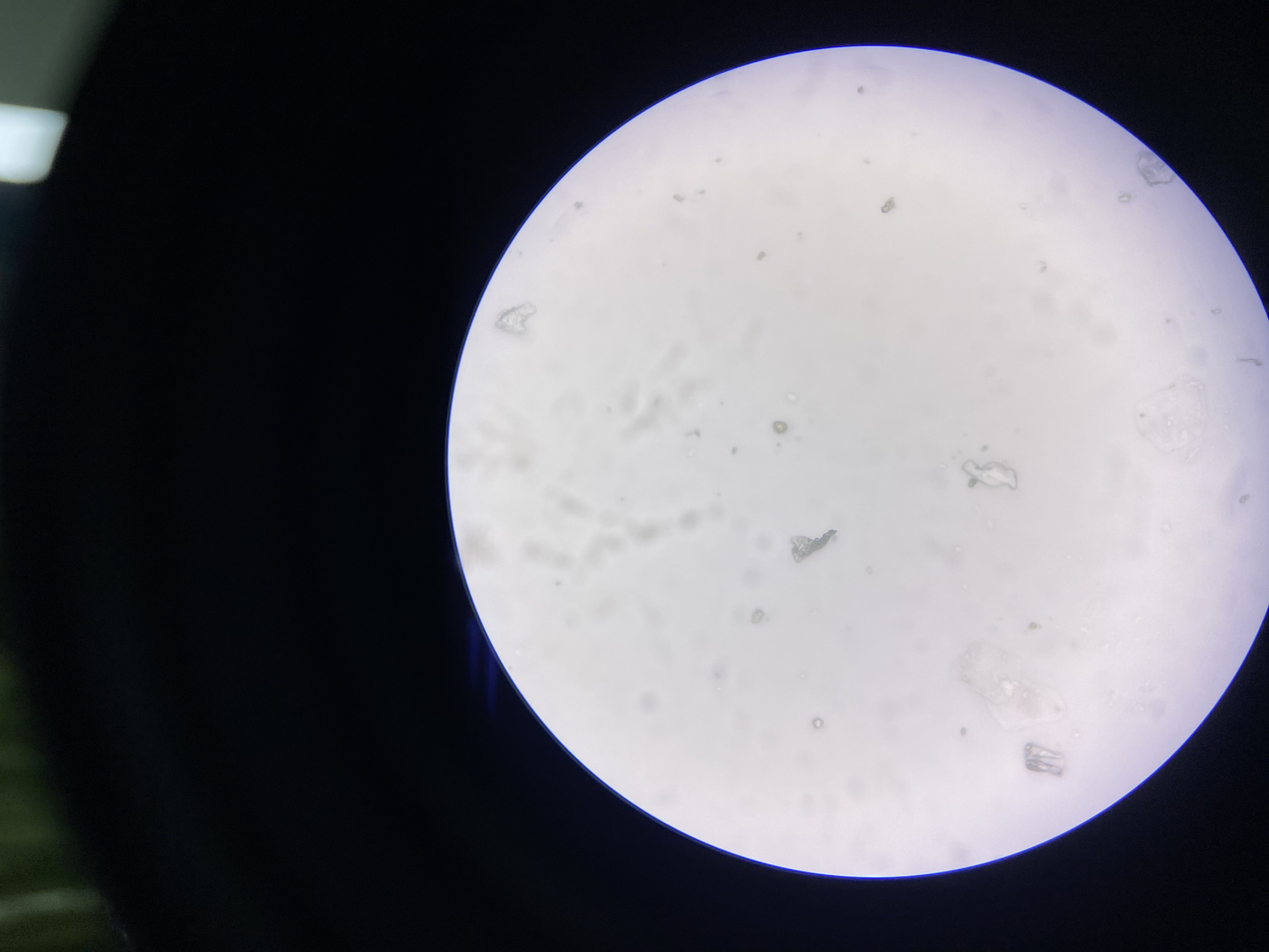microplastic: (957, 641, 1071, 734), (1131, 377, 1213, 469), (781, 521, 840, 565), (1020, 740, 1075, 779), (962, 457, 1020, 493), (1131, 146, 1176, 190), (494, 304, 540, 340), (876, 194, 906, 215), (1233, 354, 1267, 369), (748, 608, 767, 631), (773, 418, 789, 434), (785, 391, 801, 402), (754, 252, 771, 262), (812, 716, 822, 730)
